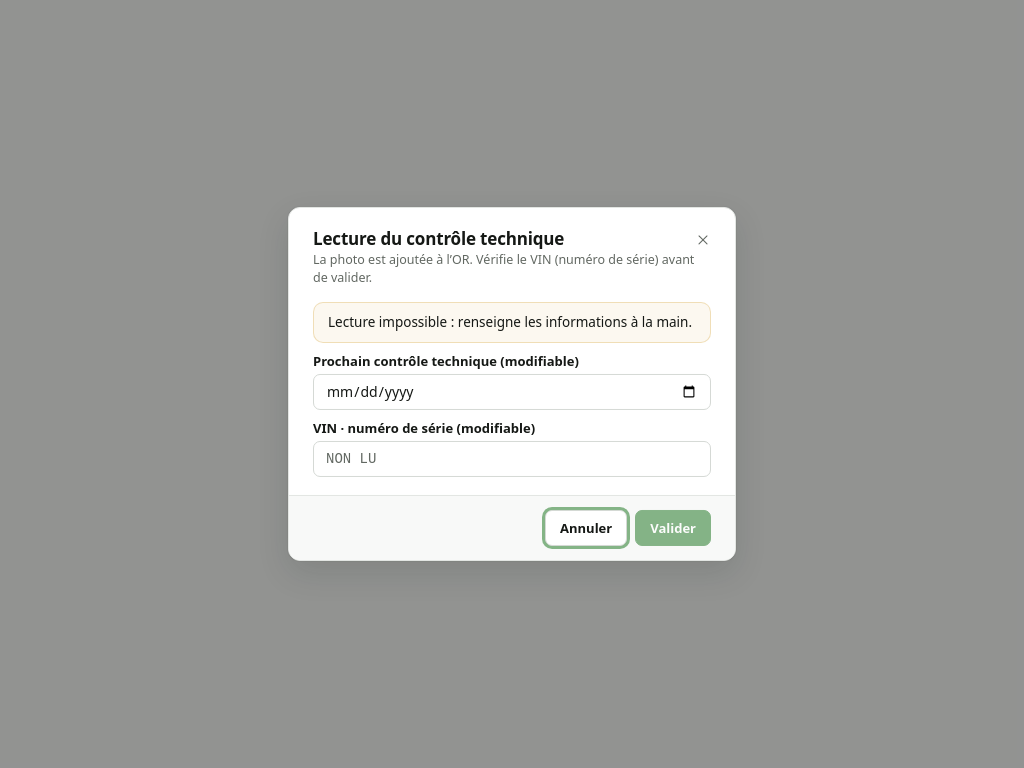
contrôle technique lu sur la photo › VIN mal lu : corrigé à la main, refusé tant qu’il est invalide
Check: the message reads "Lecture impossible : renseigne les informations à la main.", box x1=328 y1=312 x2=692 y2=330
Type "vf6123" into the field labelled "VIN · numéro de série (modifiable)".
click(512, 459); type("vf6123")  # box x1=313 y1=441 x2=711 y2=477
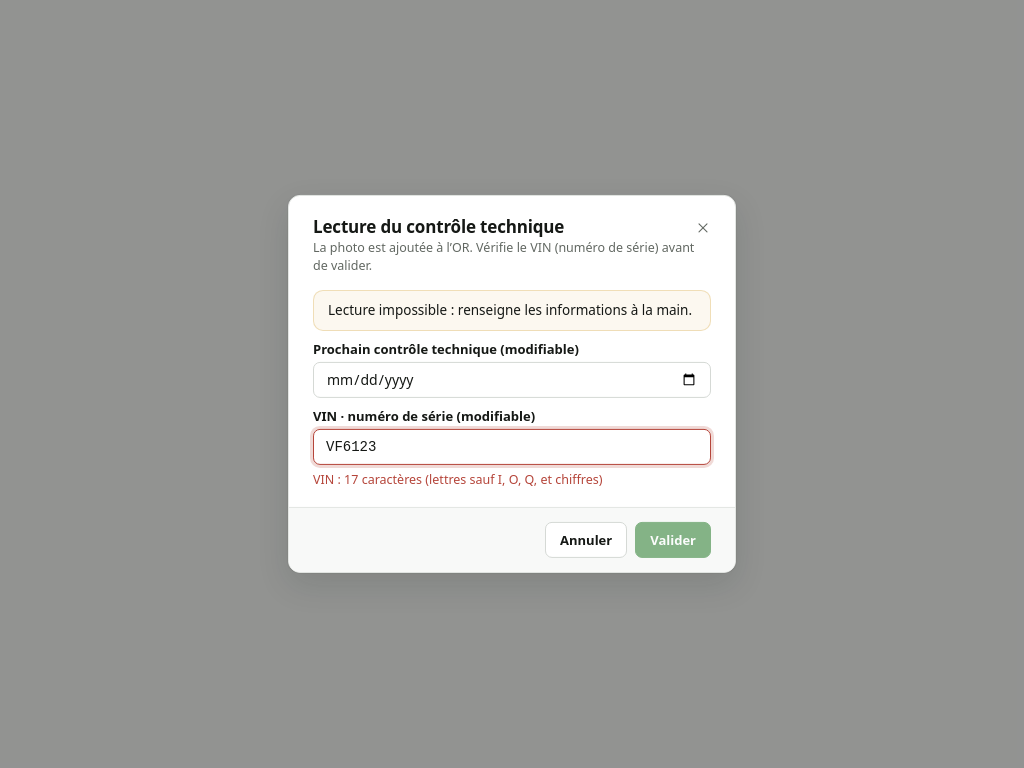
Check: the button "Valider" is disabled, box x1=635 y1=522 x2=711 y2=558
Check: the text "VIN : 17 caractères (lettres sauf I, O, Q, et chiffres)" is shown, box x1=313 y1=471 x2=602 y2=488
Type "45678901234" into the field labelled "VIN · numéro de série (modifiable)".
click(512, 447); type("45678901234")  # box x1=313 y1=429 x2=711 y2=465
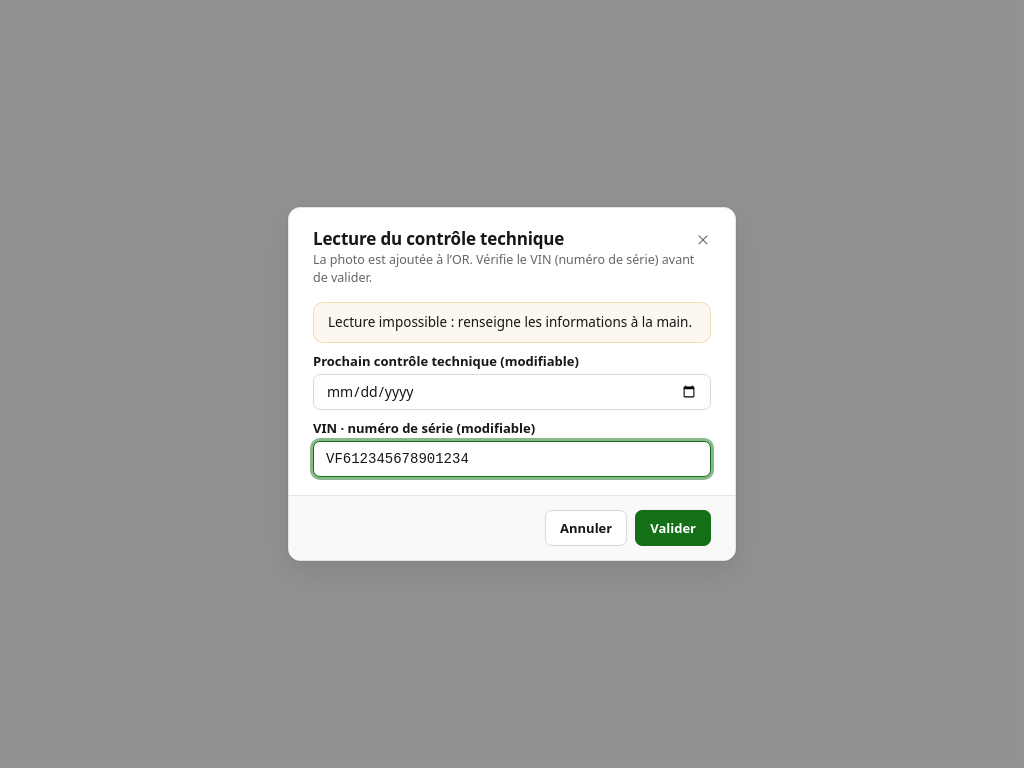
Check: the field labelled "VIN · numéro de série (modifiable)" holds "VF612345678901234", box x1=313 y1=441 x2=711 y2=477
Check: the button "Valider" is enabled, box x1=635 y1=510 x2=711 y2=546
